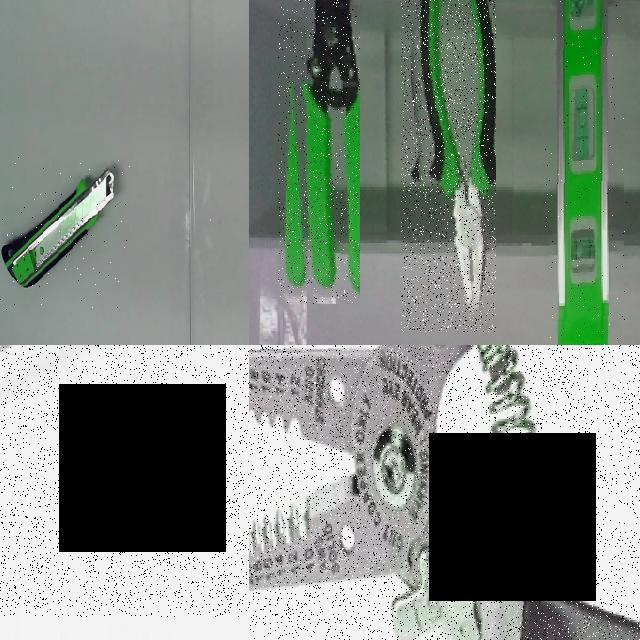estilete: (3, 168, 116, 286)
